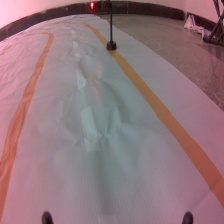red: (87, 1, 118, 53)
